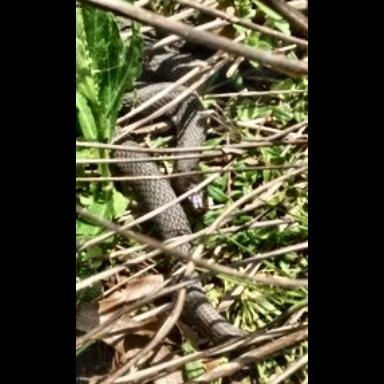snake: (111, 81, 245, 350)
